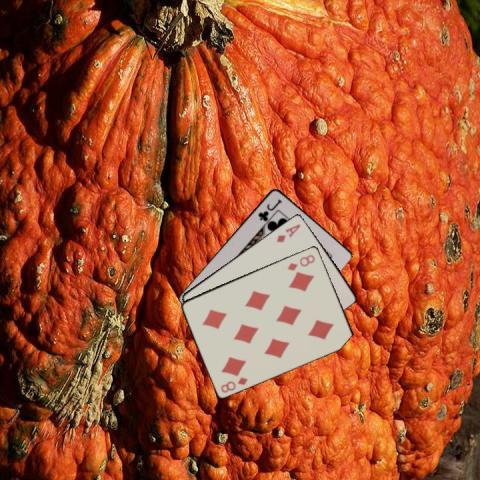8d: (284, 251, 317, 272), (218, 374, 249, 394)
Ad: (273, 221, 302, 243)
Jc: (254, 195, 282, 222)
